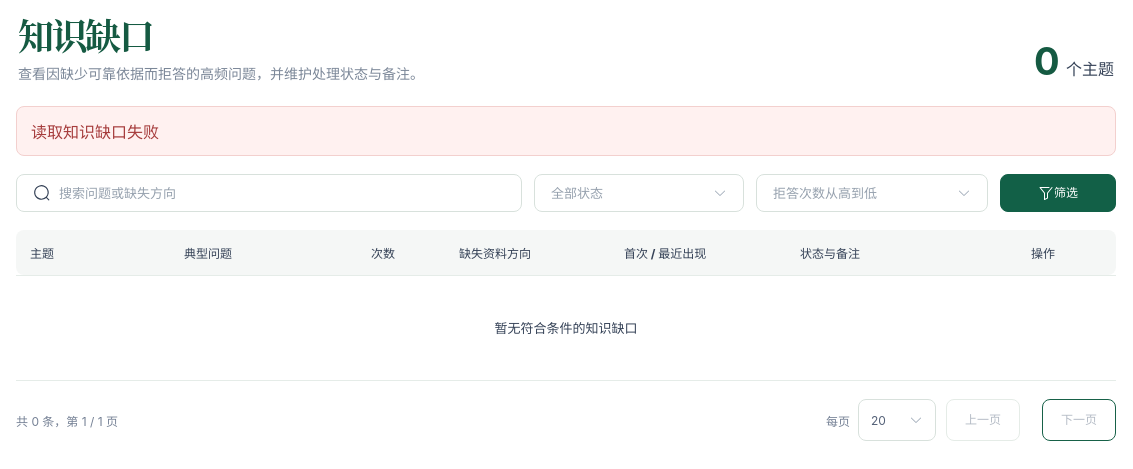
Test case: MissingKnowledgeView › shows errors from list and update requests
This screenshot has width=1133, height=469.
expect the message "读取知识缺口失败" is shown: met, box [16,106,1116,156]
Submit the form, box [16,174,1116,212]
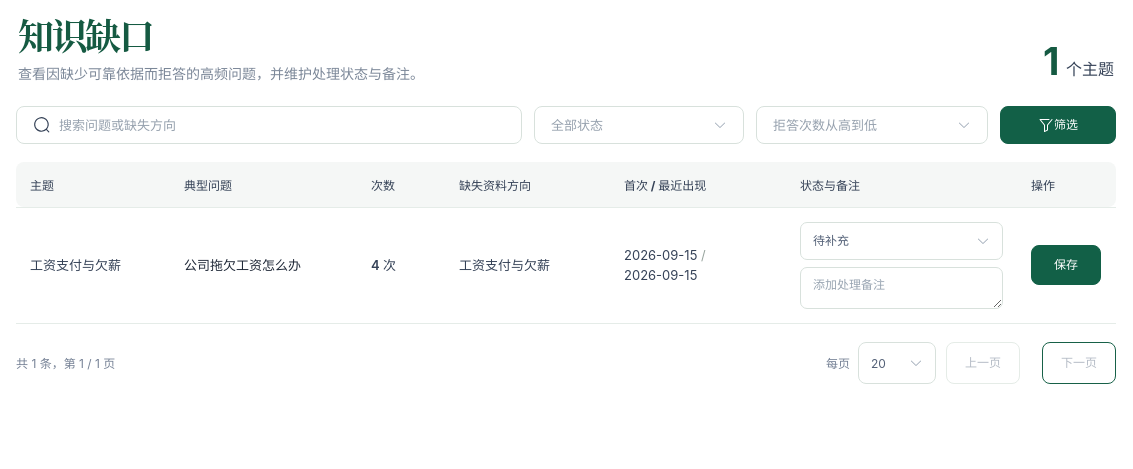
Click the button "保存" at (1066, 265), box [1031,245,1101,285]
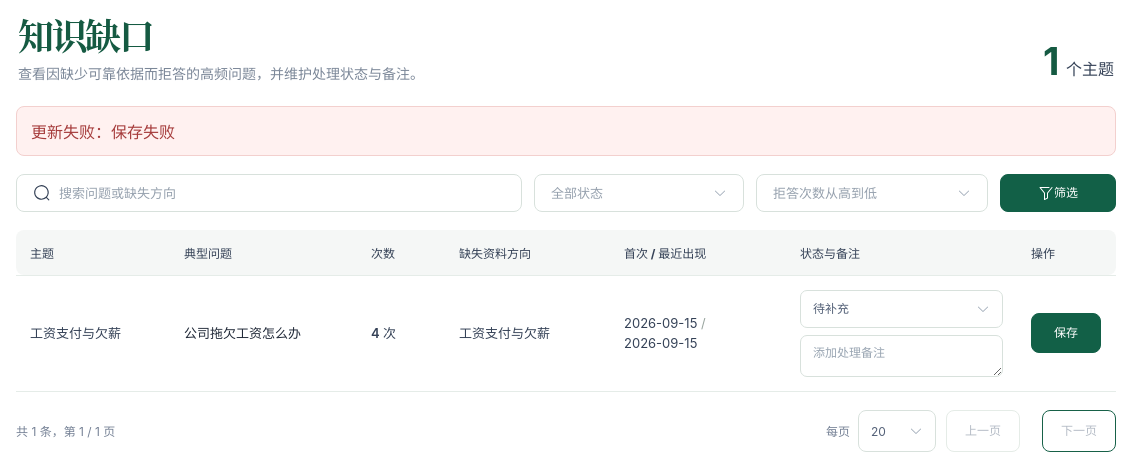
expect the message "更新失败：保存失败" is shown: met, box [16,106,1116,156]
